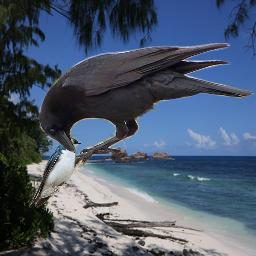Crow: (39, 43, 255, 169)
Swallow: (29, 137, 82, 208)
